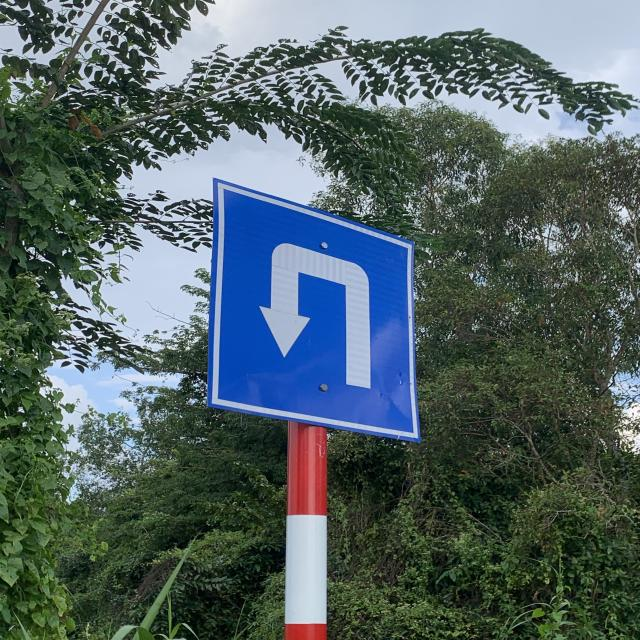Den_Giao_Thong: (212, 176, 420, 440)
